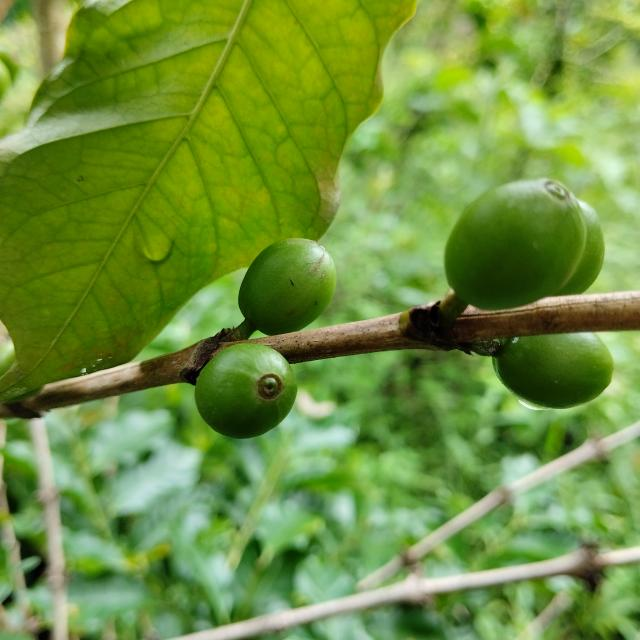green: (445, 178, 587, 310), (194, 344, 297, 439), (238, 238, 336, 335), (494, 332, 615, 409), (556, 199, 606, 295)
